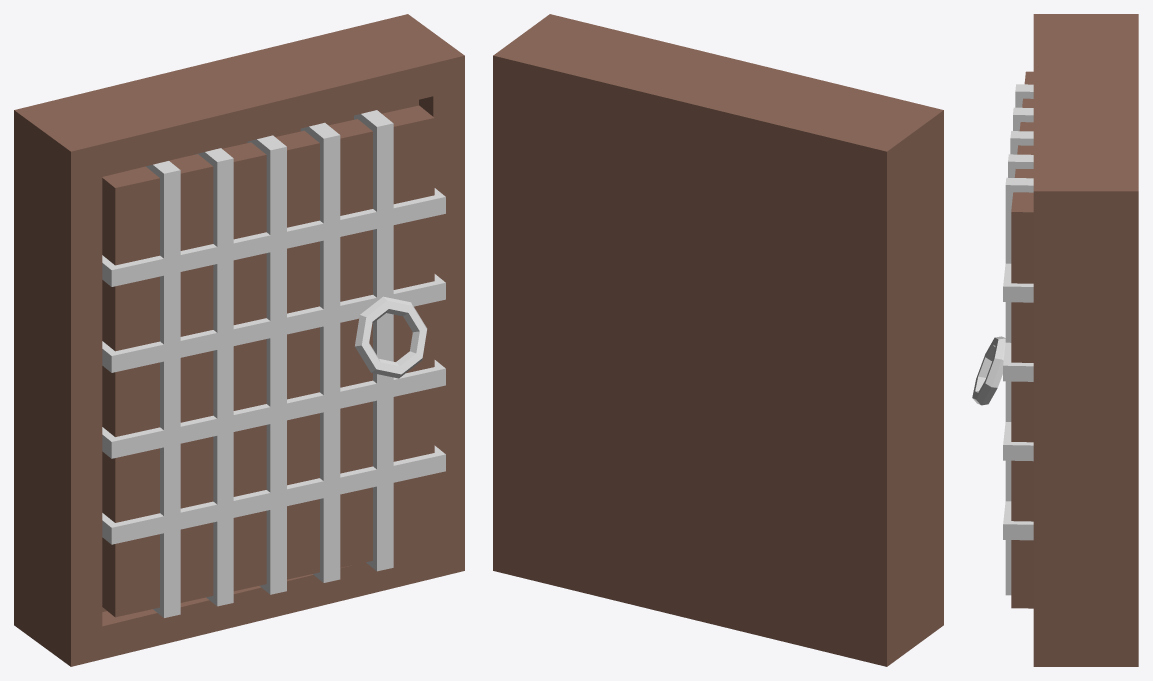
File: basic_door.glb
3 views of the same model, side by side, from view 1: azimuth 30°, elevation 25°; view 2: azimuth 150°, elevation 25°; view 3: azimuth 270°, elevation 25° (orthographic). The views are drawn at different scales.
Parts seen in each view (by area): view 1: Cube; view 2: Cube; view 3: Cube.
Part boxes in pixels (bbox=[...]): Cube: bbox=[14, 14, 464, 666]; Cube: bbox=[493, 14, 943, 666]; Cube: bbox=[972, 14, 1138, 666].
Size of what is drawn, in the model's own units: 1.6 by 2 by 0.6345.
